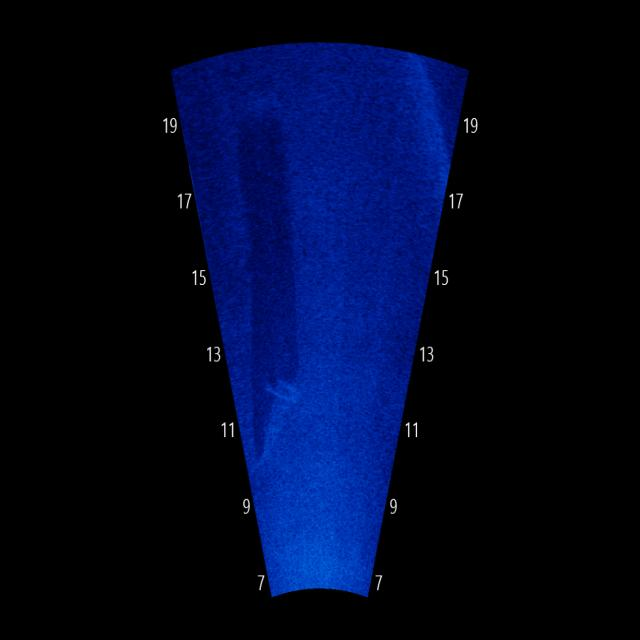triangle: (252, 368, 304, 463)
